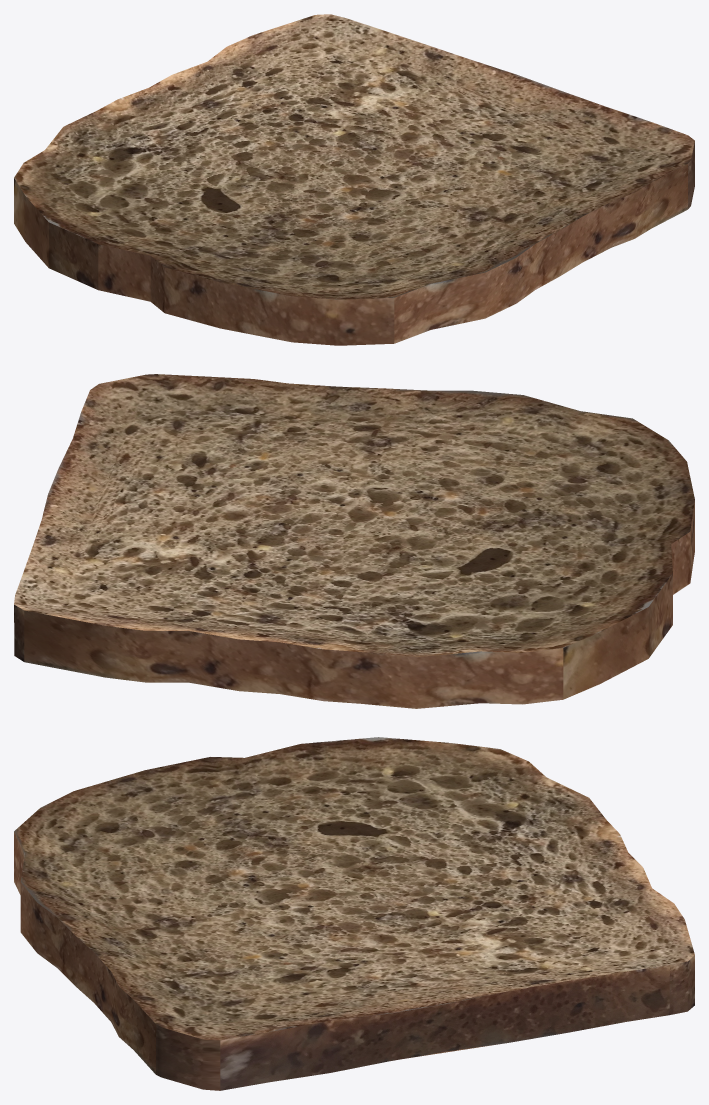
The picture shows the model from 3 angles, top to bottom: view 1: azimuth 30°, elevation 25°; view 2: azimuth 150°, elevation 25°; view 3: azimuth 270°, elevation 25°; orthographic projection. The views are drawn at different scales.
Parts seen in each view (by area): view 1: bread; view 2: bread; view 3: bread.
Boxes of the visible parts, bbox=[...] form: bread: bbox=[14, 14, 694, 345]; bread: bbox=[14, 374, 694, 708]; bread: bbox=[14, 737, 694, 1090].
Size of the model in its own units: 63.59 by 5.4 by 60.09.
Materials: 1 (1 with a texture image).
